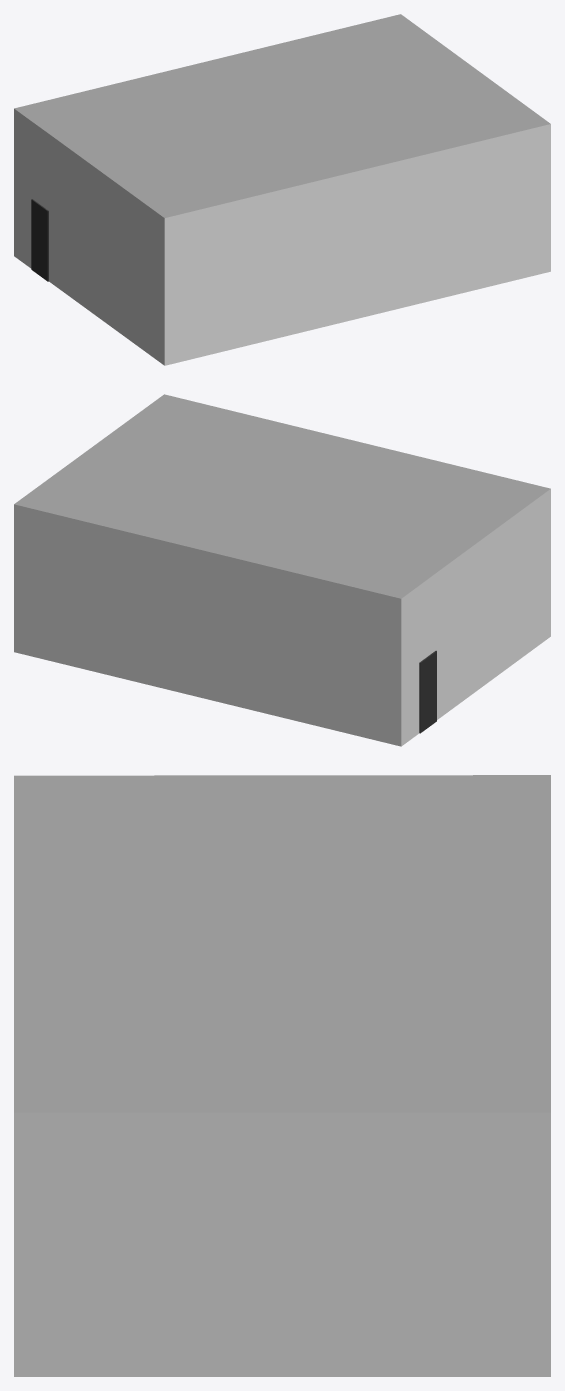
File: room.fbx
3 renders of one model, top to bottom at view 1: azimuth 30°, elevation 25°; view 2: azimuth 150°, elevation 25°; view 3: azimuth 270°, elevation 25°, orthographic. The views are drawn at different scales.
Visible parts, largest first — view 1: room; view 2: room; view 3: room.
Boxes of the visible parts, x1,y1,x2,y2 form: room: (14,14,550,365); room: (14,394,550,746); room: (14,775,550,1376).
Size of the model in its own units: 47.36 by 17.24 by 31.75.
5 materials, 1 textured.
